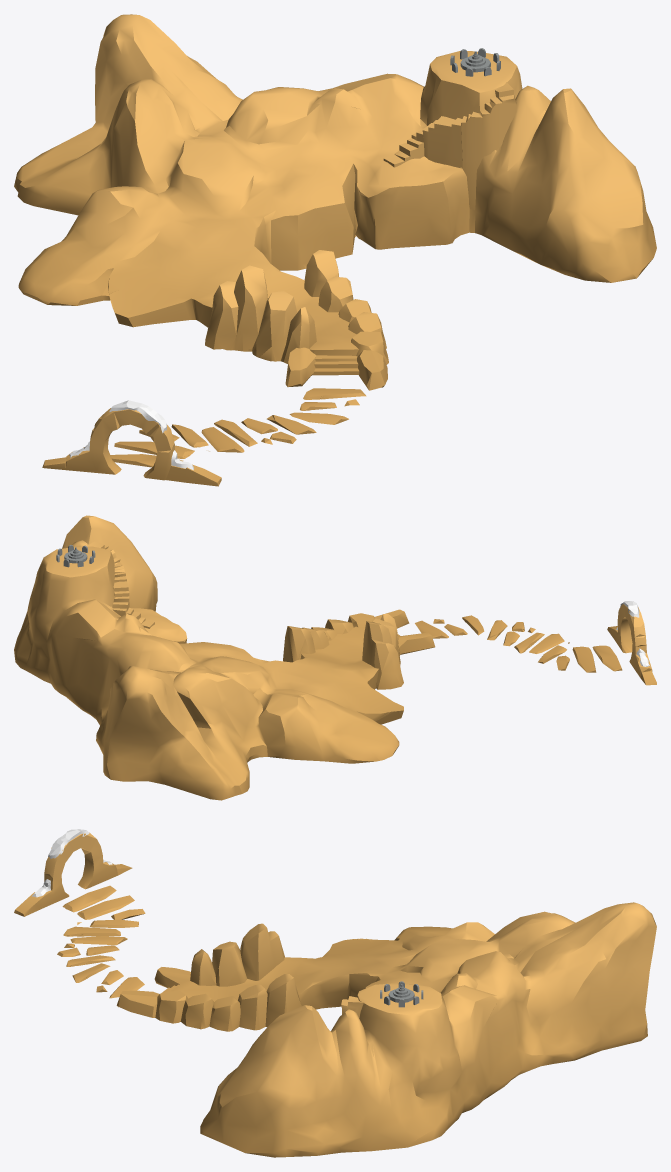
Rendered from Neighborhood_PudgyStone_02.fbx.
3 renders of one model, top to bottom at view 1: azimuth 30°, elevation 25°; view 2: azimuth 150°, elevation 25°; view 3: azimuth 270°, elevation 25°, orthographic. The views are drawn at different scales.
Visible parts, largest first — view 1: Environment_PudgyStone, Object_Snow, Building_Stones; view 2: Environment_PudgyStone, Building_Stones; view 3: Environment_PudgyStone, Building_Stones, Object_Snow.
Part boxes in pixels (x1,y1,x2,y2): Environment_PudgyStone: (14, 14, 656, 486); Object_Snow: (69, 400, 193, 470); Building_Stones: (450, 48, 500, 76); Environment_PudgyStone: (14, 515, 656, 800); Building_Stones: (56, 545, 95, 567); Environment_PudgyStone: (14, 832, 656, 1157); Building_Stones: (380, 981, 423, 1007); Object_Snow: (32, 829, 112, 897).
Size of the model in its own units: 3755 by 787 by 3479.
